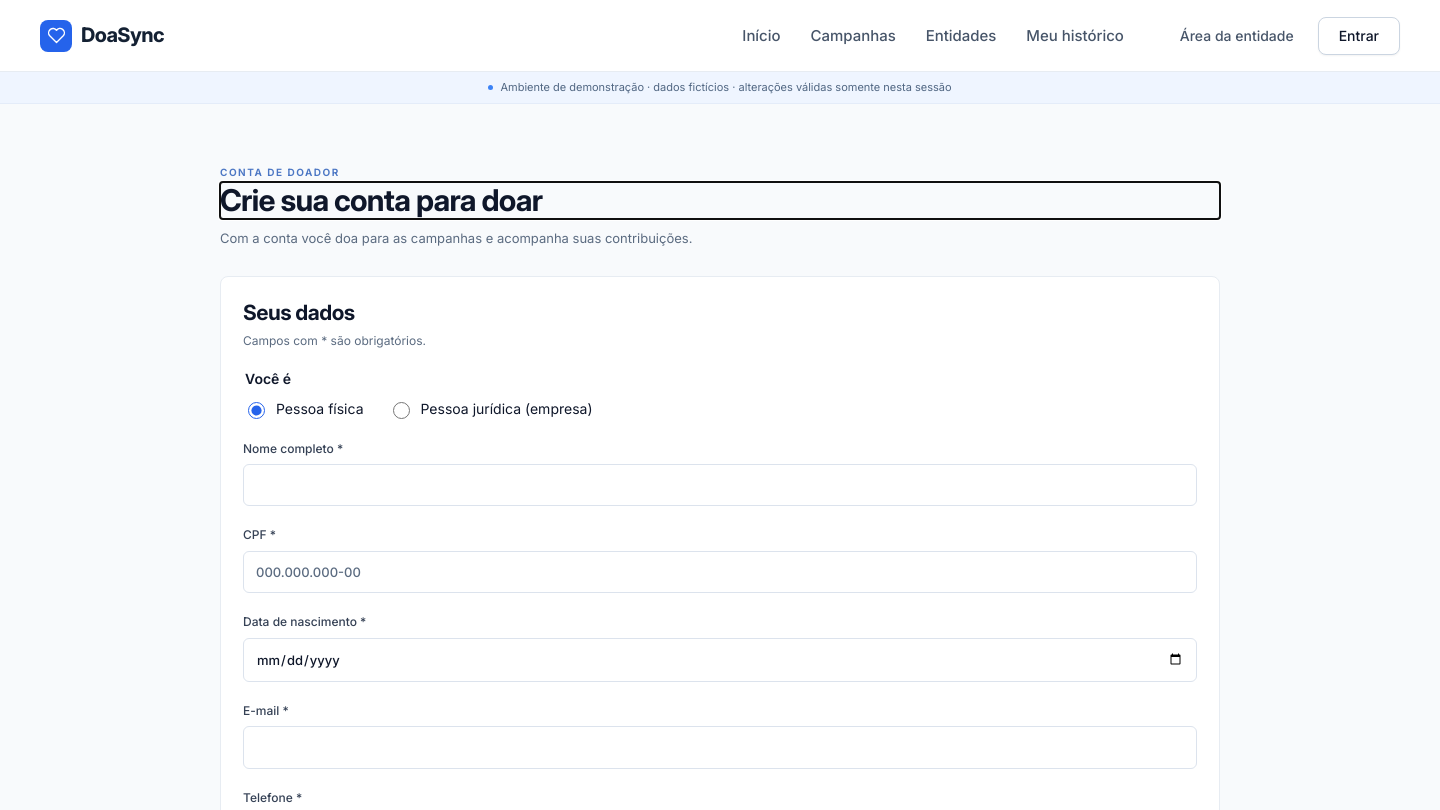
Test: tela de cadastro de doador › pessoa jurídica pede CNPJ e razão social
This screenshot has width=1440, height=810.
Check: the heading "Crie sua conta para doar" is shown, box [220,182,542,218]
Click the radio button labelled "Pessoa jurídica (empresa)": (401, 410) [392,402,410,419]
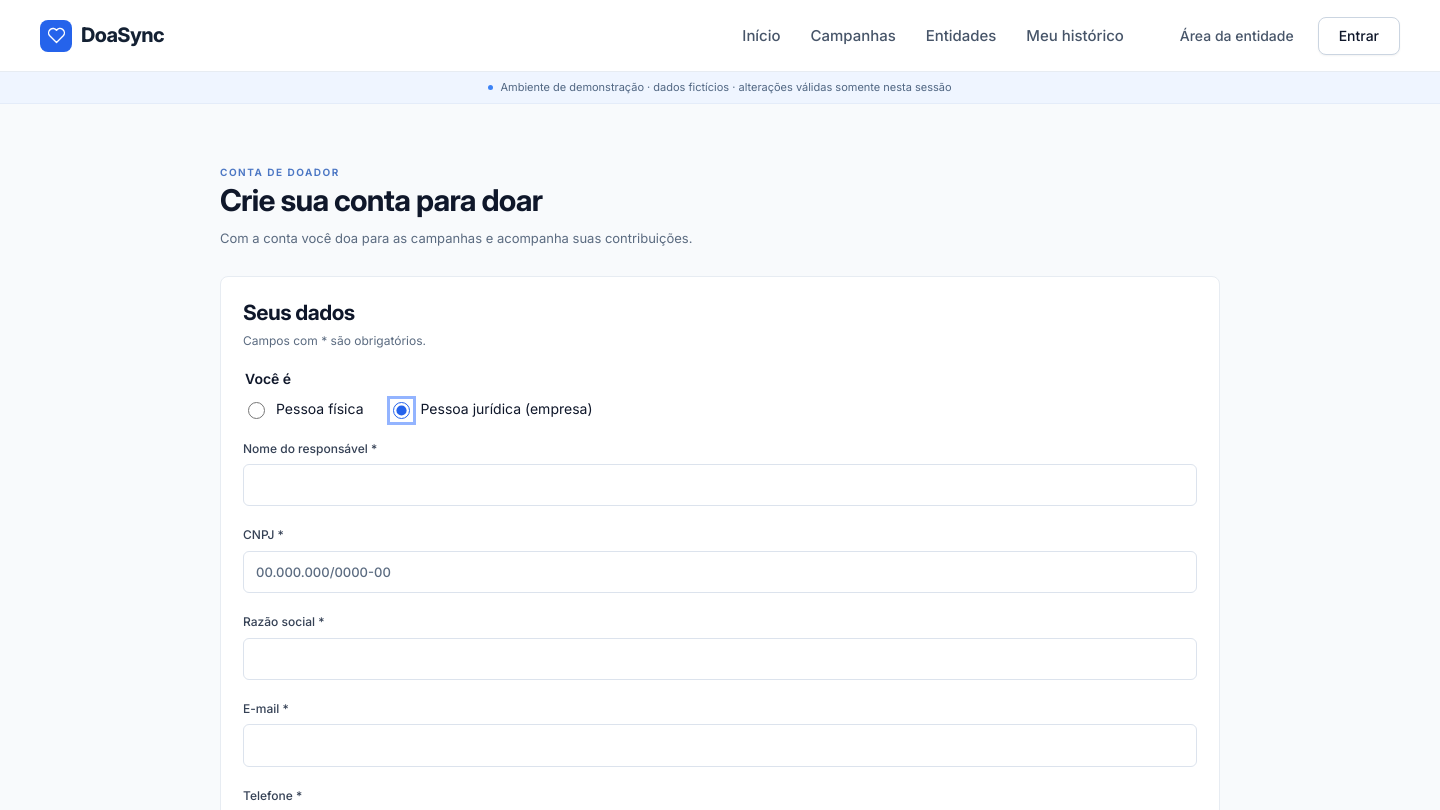
Check: the field labelled "Razão social *" is shown, box [243,638,1197,680]
Check: the field labelled "CNPJ *" is shown, box [243,551,1197,593]
Check: the text labelled "CPF" is gone
